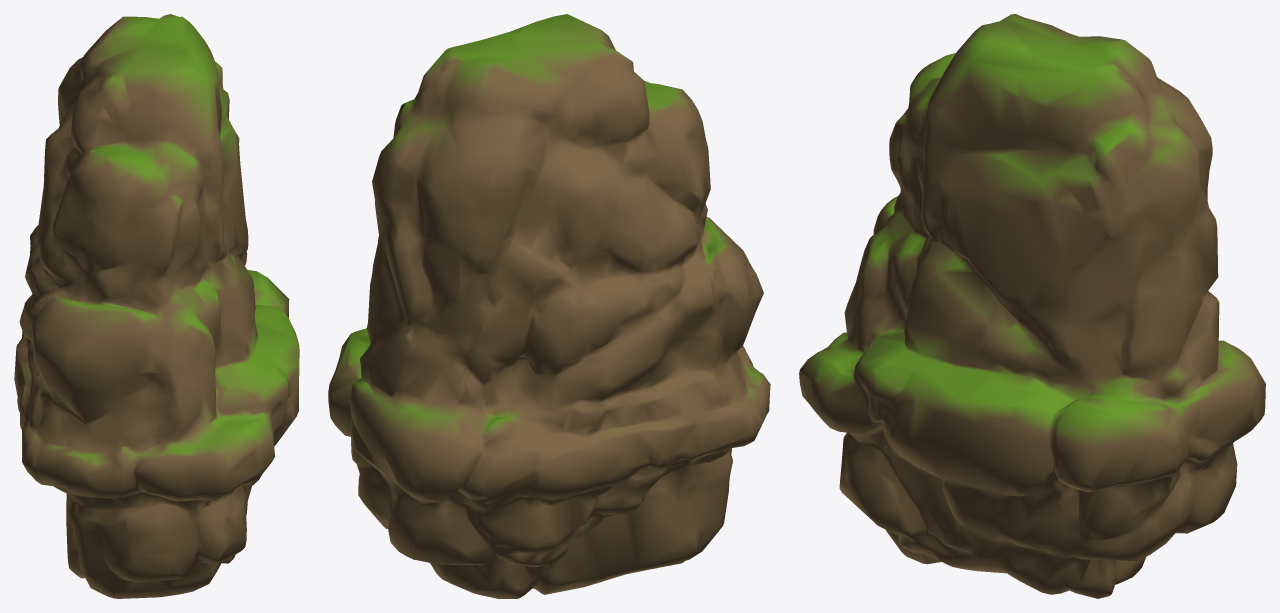
Rendered from cell_x0_z-3_render.gltf.
3 renders of one model, left to right at view 1: azimuth 30°, elevation 25°; view 2: azimuth 150°, elevation 25°; view 3: azimuth 270°, elevation 25°, orthographic. The views are drawn at different scales.
Visible parts, largest first — view 1: SM_ENV_cliff_castle_02_LOD0.009; view 2: SM_ENV_cliff_castle_02_LOD0.009; view 3: SM_ENV_cliff_castle_02_LOD0.009.
Part boxes in pixels (x1,y1,x2,y2): SM_ENV_cliff_castle_02_LOD0.009: [14, 14, 299, 598]; SM_ENV_cliff_castle_02_LOD0.009: [328, 14, 770, 598]; SM_ENV_cliff_castle_02_LOD0.009: [799, 14, 1265, 598].
Size of the model in its own units: 54.37 by 80.41 by 63.35.
